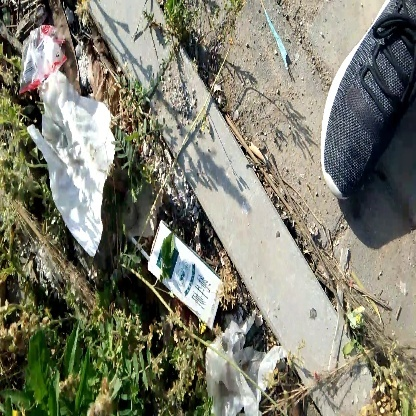milk-box: (144, 216, 229, 335)
